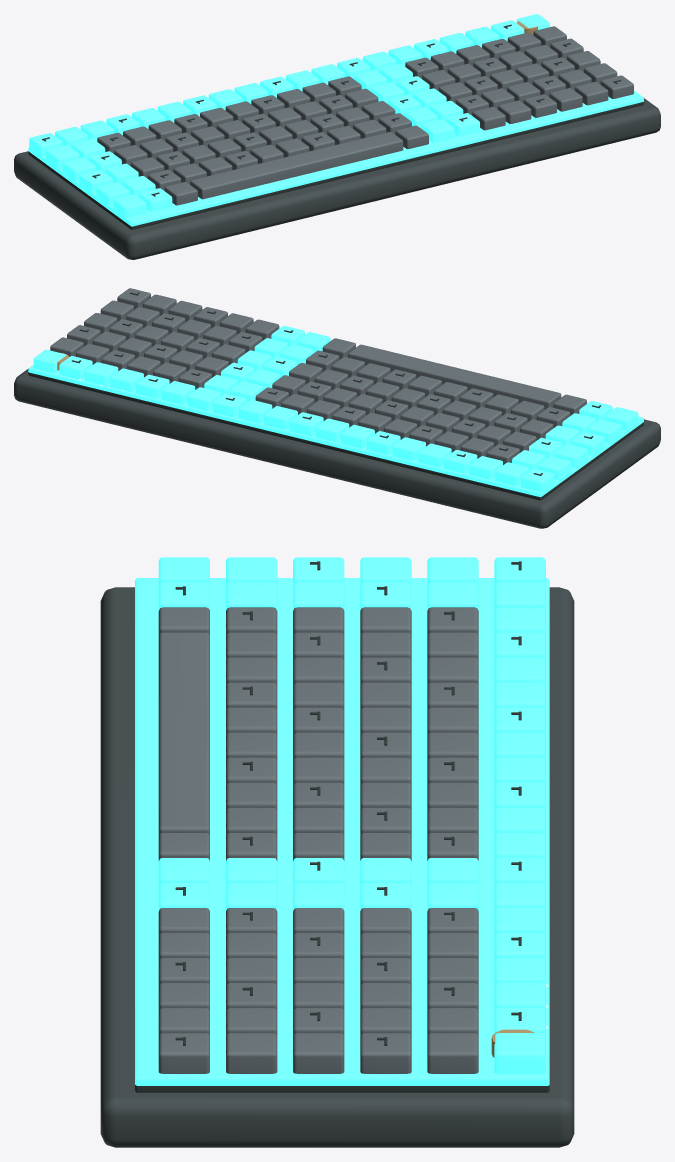
File: keyboard_charcoal.glb
3 views of the same model, one above another, from view 1: azimuth 30°, elevation 25°; view 2: azimuth 150°, elevation 25°; view 3: azimuth 270°, elevation 25° (orthographic). The views are drawn at different scales.
Visible parts, largest first — view 1: keyboard_charcoal_Slate_fabric_panels, keyboard_charcoal_RGB_cyan, keyboard_charcoal_Charcoal_shell, keyboard_charcoal_Recesses_and_rubber; view 2: keyboard_charcoal_Slate_fabric_panels, keyboard_charcoal_RGB_cyan, keyboard_charcoal_Charcoal_shell, keyboard_charcoal_Recesses_and_rubber; view 3: keyboard_charcoal_RGB_cyan, keyboard_charcoal_Slate_fabric_panels, keyboard_charcoal_Charcoal_shell, keyboard_charcoal_Recesses_and_rubber.
Boxes of the visible parts, x1,y1,x2,y2 form: keyboard_charcoal_Slate_fabric_panels: (97,26,633,205); keyboard_charcoal_RGB_cyan: (28,14,643,226); keyboard_charcoal_Charcoal_shell: (14,98,660,259); keyboard_charcoal_Recesses_and_rubber: (28,24,643,229); keyboard_charcoal_Slate_fabric_panels: (50,288,586,464); keyboard_charcoal_RGB_cyan: (28,325,643,497); keyboard_charcoal_Charcoal_shell: (14,368,660,528); keyboard_charcoal_Recesses_and_rubber: (28,292,643,500); keyboard_charcoal_RGB_cyan: (135,557,549,1085); keyboard_charcoal_Slate_fabric_panels: (158,607,478,1073); keyboard_charcoal_Charcoal_shell: (100,587,574,1147); keyboard_charcoal_Recesses_and_rubber: (135,561,549,1092).
Size of the model in its own units: 1.25 by 0.098 by 0.48.
